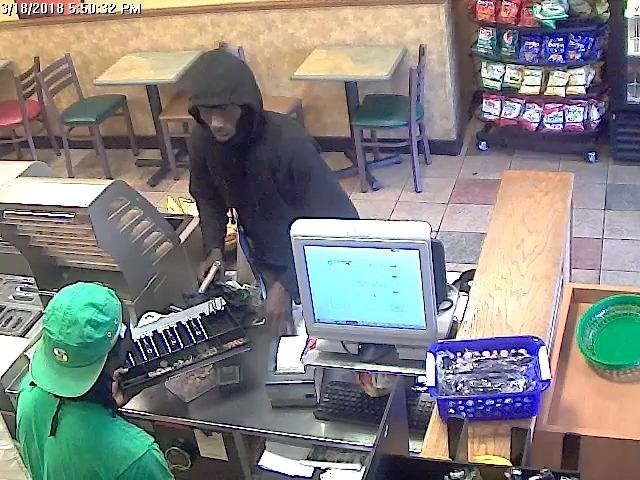weapon: (187, 257, 229, 294)
